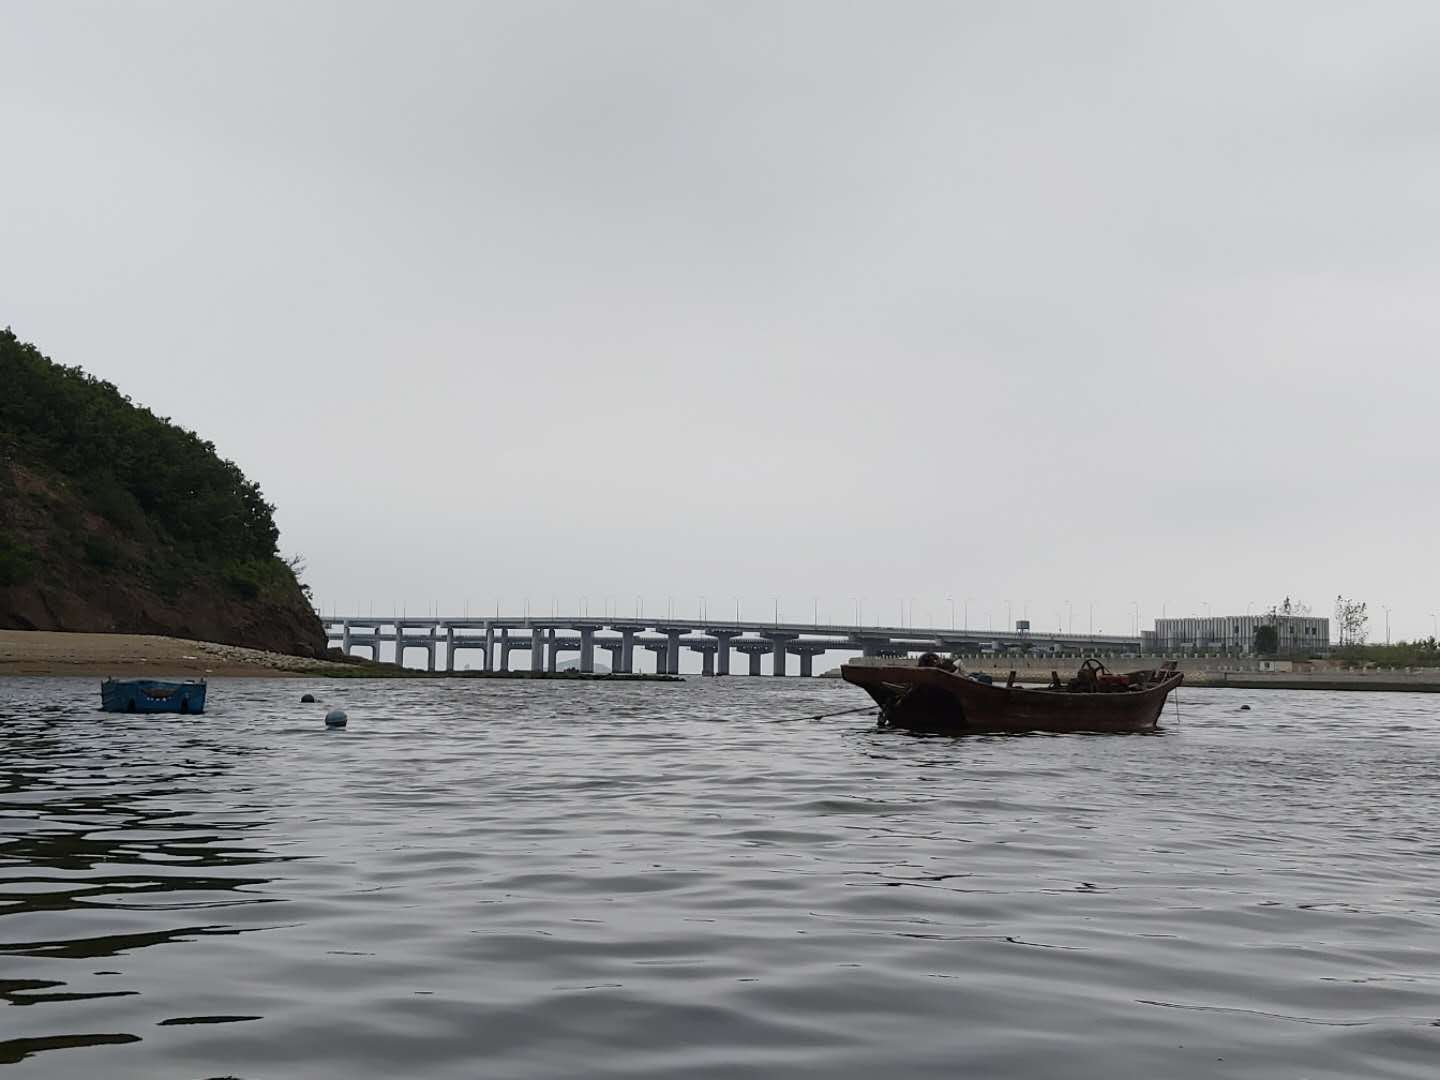ball: (315, 707, 357, 731), (296, 686, 319, 702), (1237, 697, 1256, 714)
boat: (825, 653, 1188, 746), (82, 676, 219, 716)
bridge: (303, 596, 812, 678)
